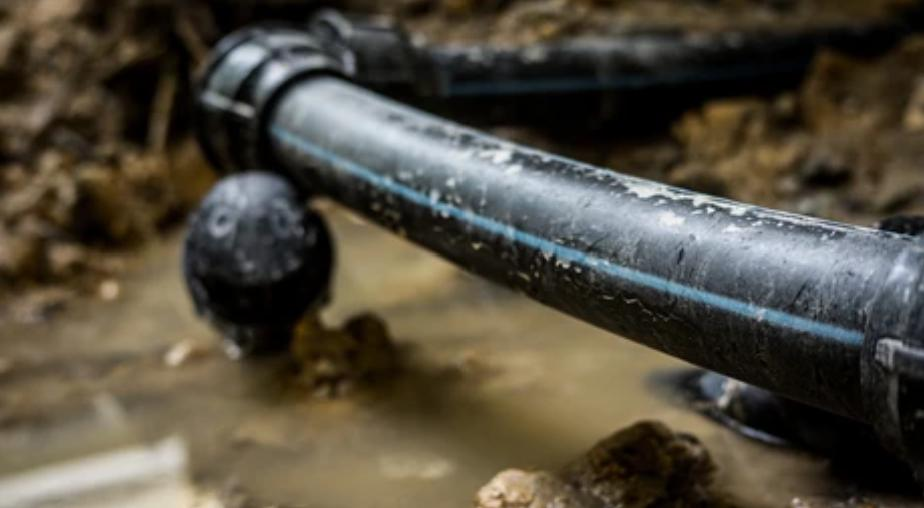water accumulation: (2, 182, 852, 508)
